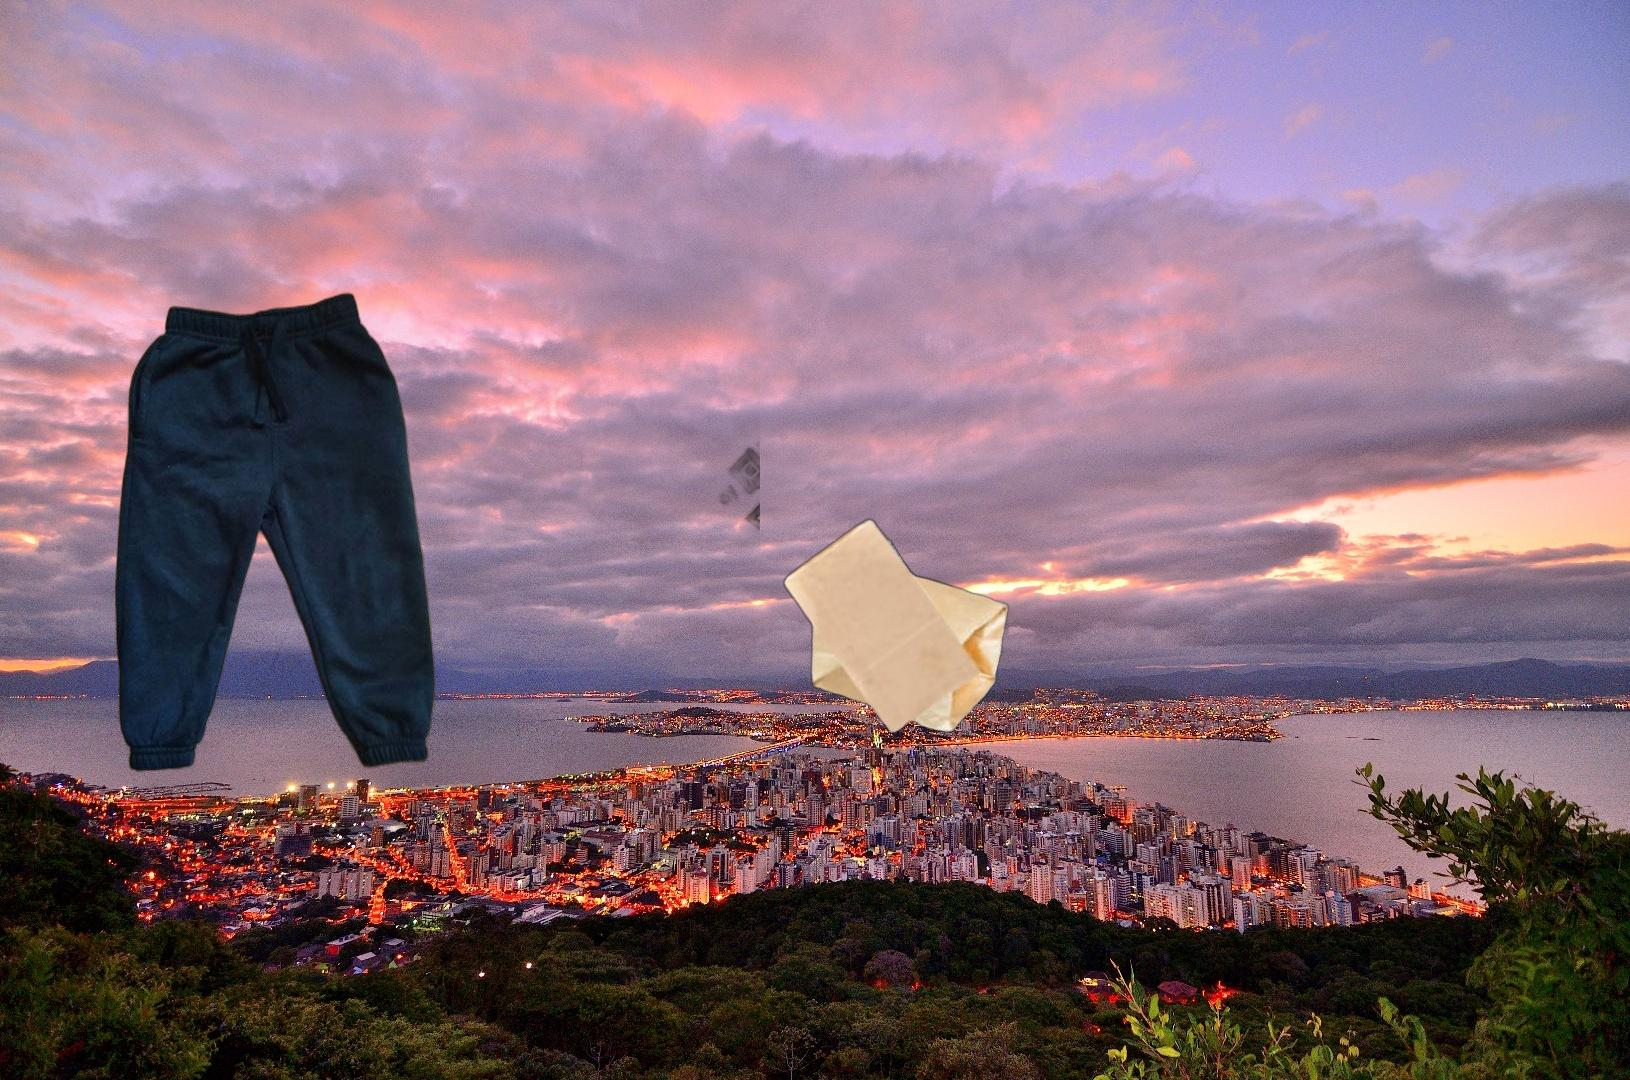clothes: (111, 289, 439, 776)
paper-bag: (781, 516, 1011, 736)
trashbox-cardboard: (248, 169, 760, 553)
